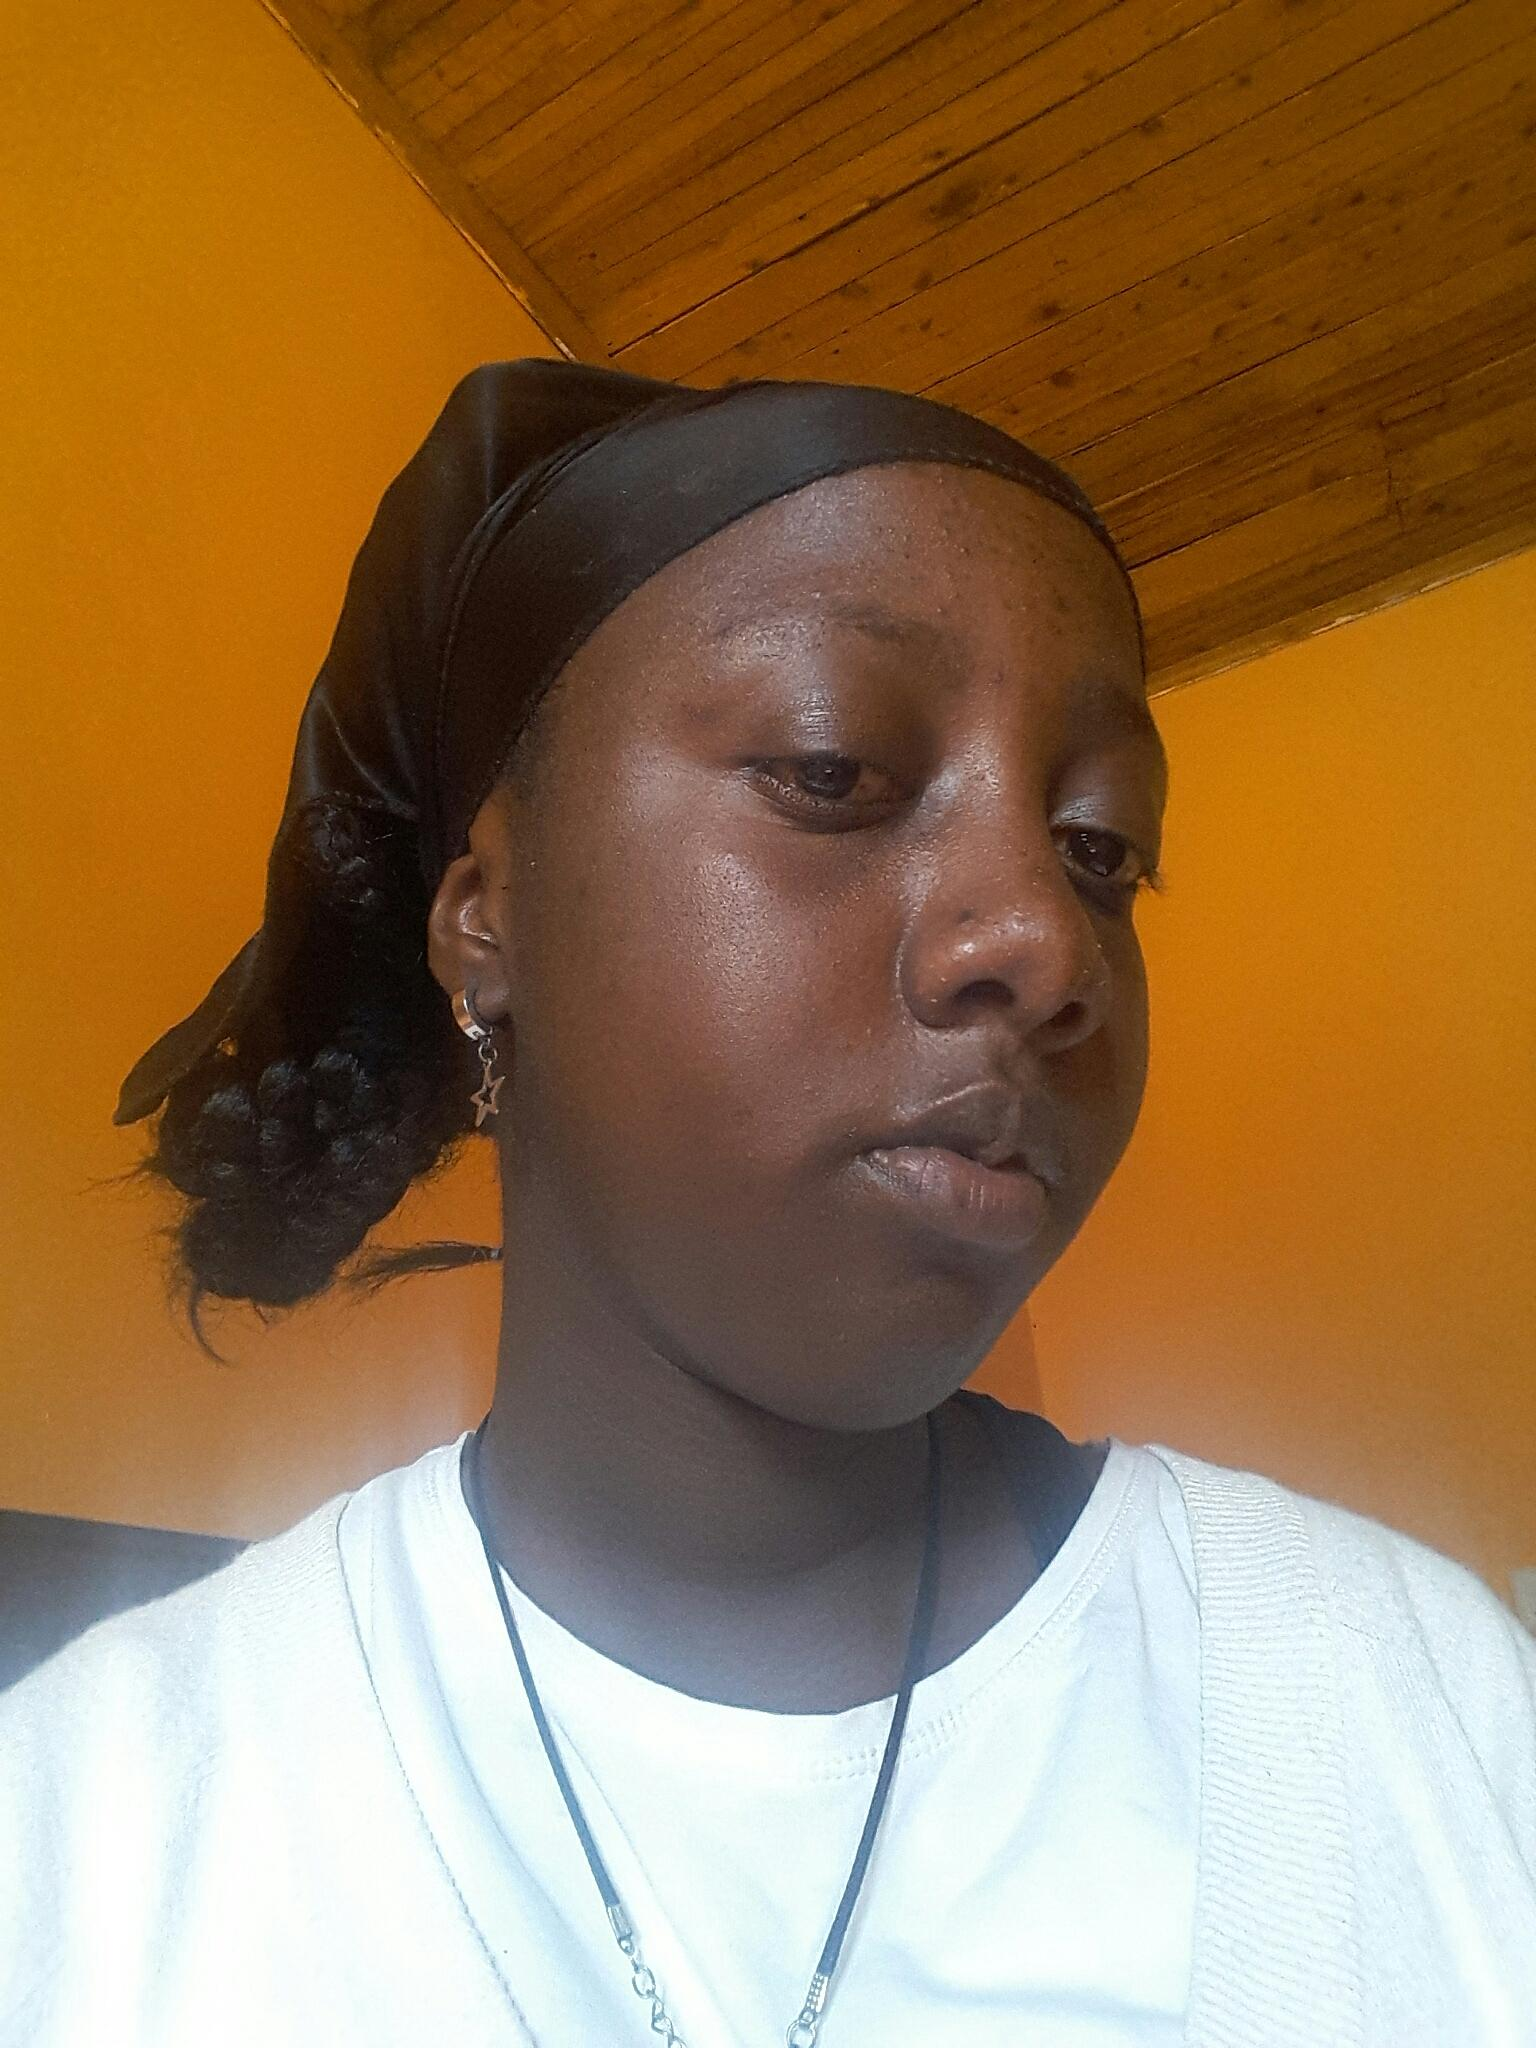Acne: (871, 521, 913, 547), (1000, 595, 1033, 622), (949, 905, 983, 930), (568, 872, 594, 903), (945, 493, 978, 511), (933, 566, 962, 585), (987, 668, 1010, 692), (970, 763, 992, 785), (1026, 540, 1046, 564), (1055, 590, 1076, 611), (926, 601, 949, 619), (807, 585, 828, 603), (933, 472, 950, 490), (936, 526, 957, 540), (1020, 510, 1041, 522), (957, 545, 973, 558), (1034, 863, 1050, 876), (989, 543, 1005, 555)
Eyebags: (728, 779, 923, 897)
